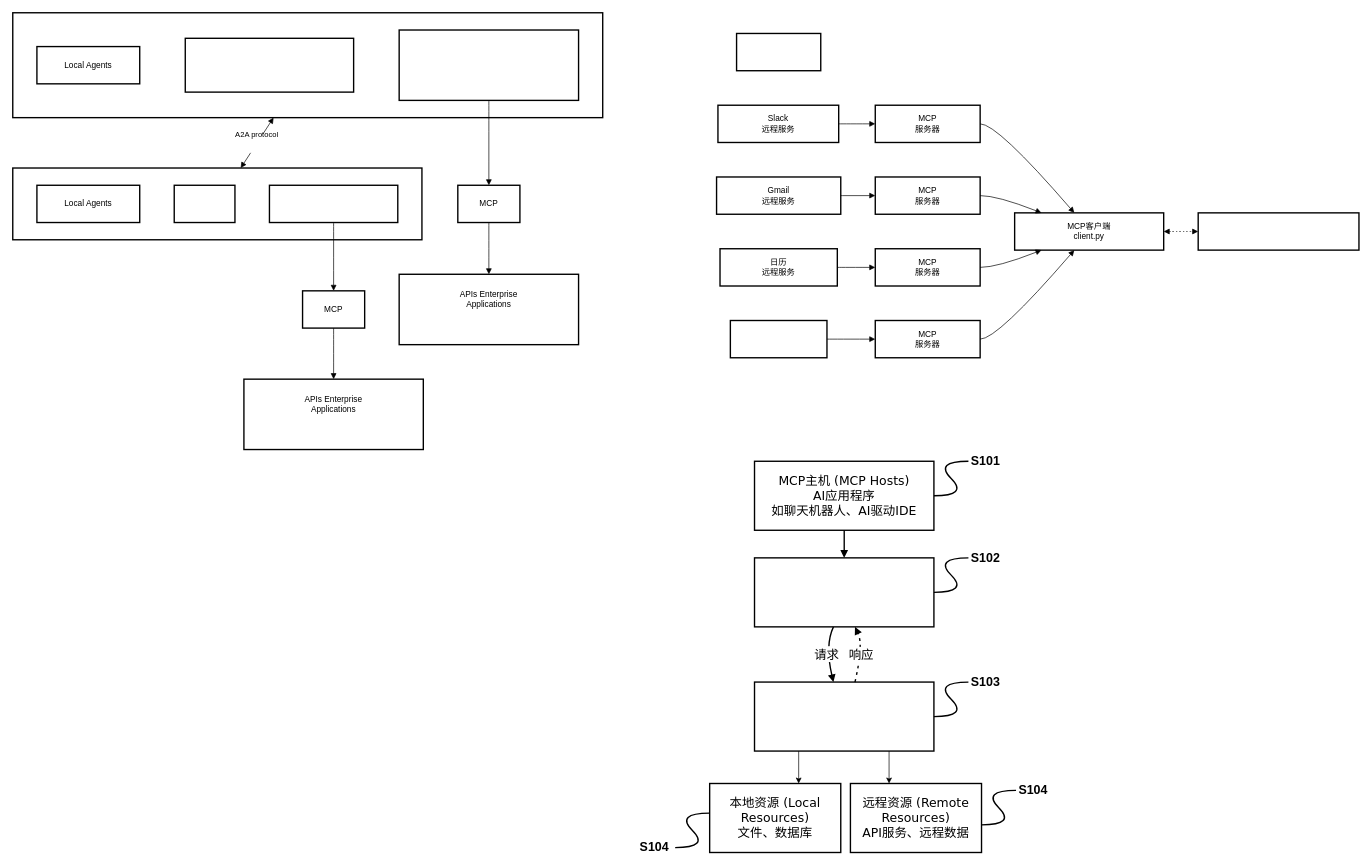
The diagram is 1371 pixels wide and 867 high, and some of its shapes have lost their labels. The shapes that lost their labels are listed below. From the top down, each one's centre as x and y in pixels, then its label:
(x=269, y=64): Vertex AI Gemini API, 3P
(x=488, y=65): Agent Development Kit (ADK)
(x=778, y=51): MCP架构
(x=204, y=203): LLM
(x=333, y=203): Agent Framework
(x=1278, y=231): MCP主机 Claude等服务
(x=778, y=338): 本地数据源
(x=843, y=592): MCP客户端 (MCP Clients) 与服务器1:1连接
(x=843, y=716): MCP服务器 (MCP Servers) 提供上下文、工具和提示信息
